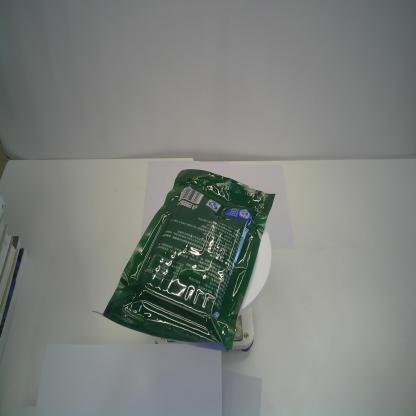Dried Food: (93, 164, 277, 350)
